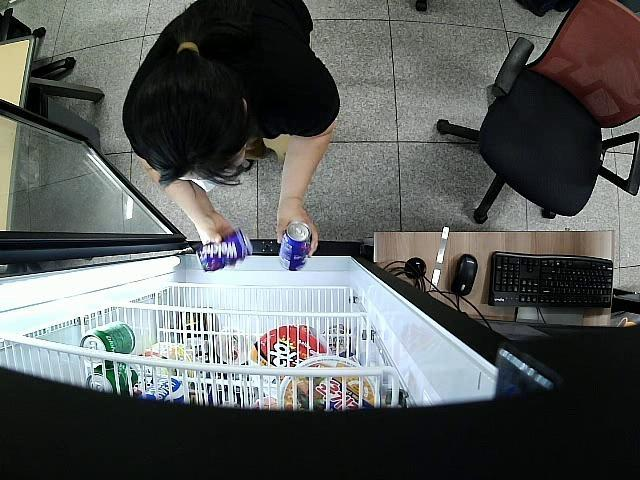14_welchsGrape: (196, 228, 253, 271), (278, 223, 311, 274)
